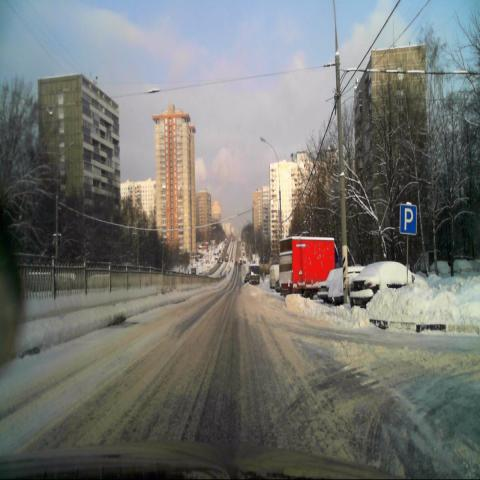6_4: (399, 203, 417, 235)
